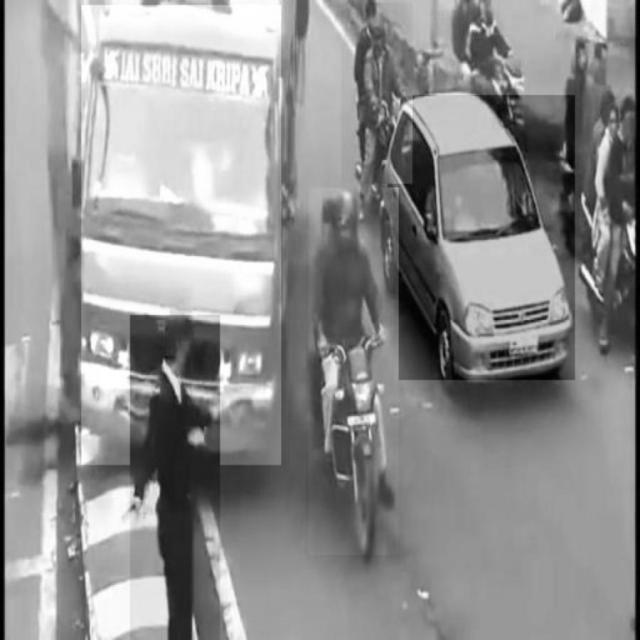person: (131, 315, 221, 640)
vehicle: (82, 5, 282, 465), (387, 95, 575, 381), (309, 188, 399, 555), (342, 3, 413, 183)
